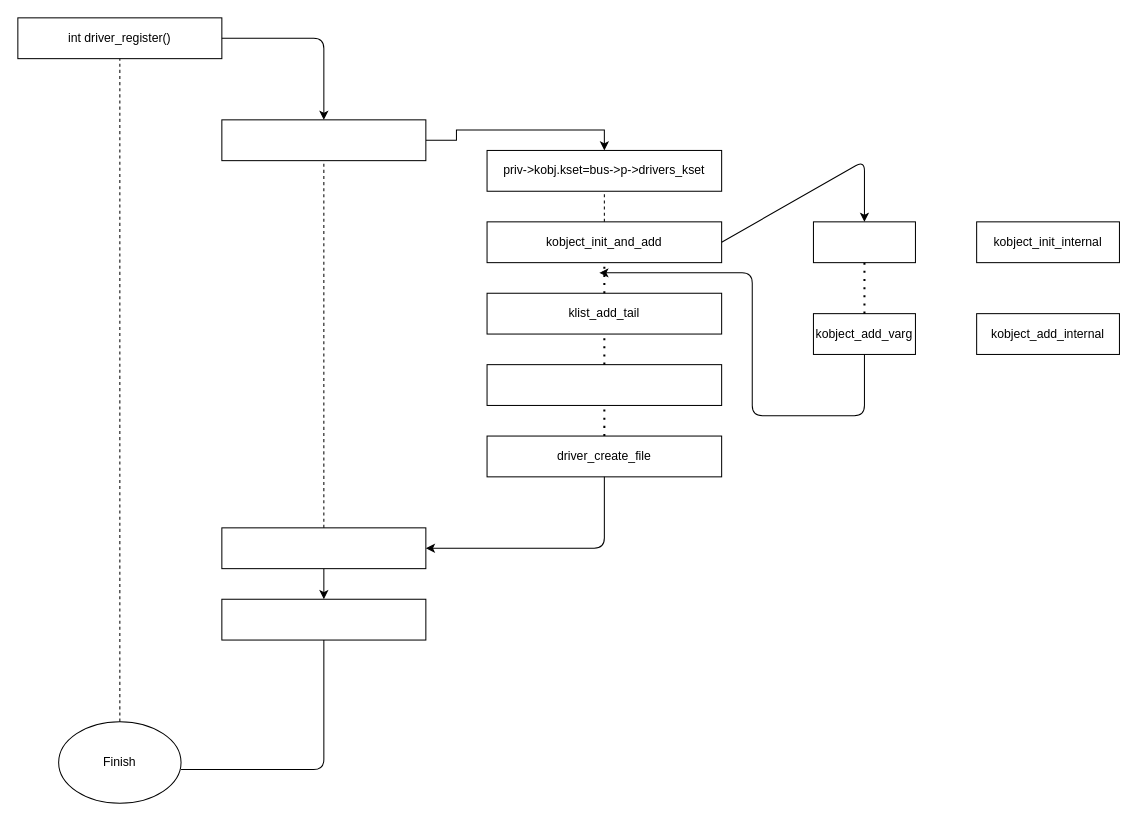
Some shapes in this 1137 by 821 pixel diagram are drawn without their labels. The box of each missing label's shape, as (x1, y1, x2, y2) in pixels:
async_schedule(driver_attach_async,drv): (486, 364, 722, 405)
bus_add_driver(): (221, 119, 426, 161)
driver_add_groups(): (221, 527, 426, 569)
kobject_init: (812, 221, 915, 263)
kobject_uevent(,KOBJ_ADD): (221, 598, 426, 640)
